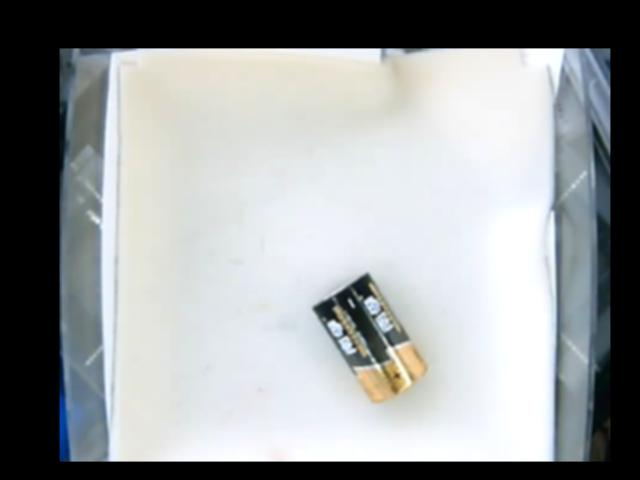Battery: (308, 271, 427, 404)
